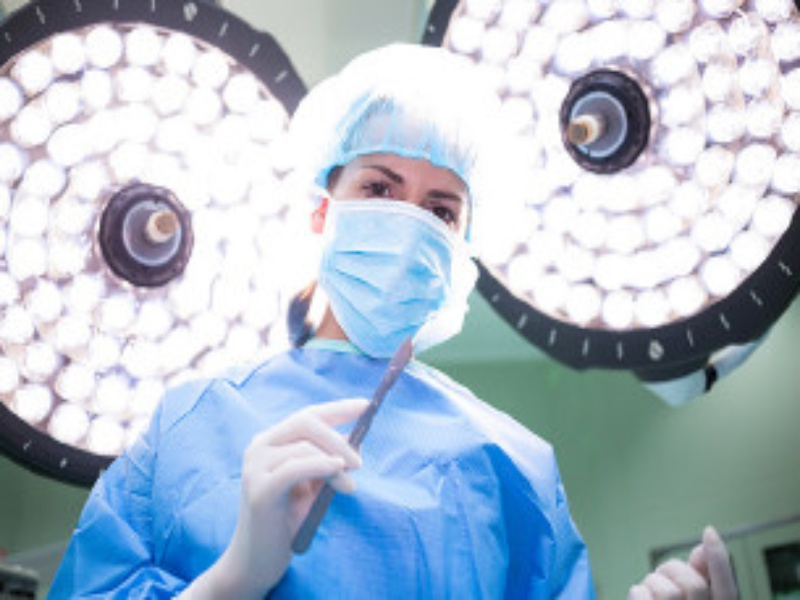mask: (313, 105, 490, 351)
